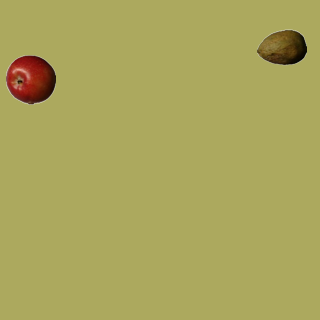Apple Braeburn: (5, 54, 55, 104)
Papaya: (256, 22, 306, 72)
